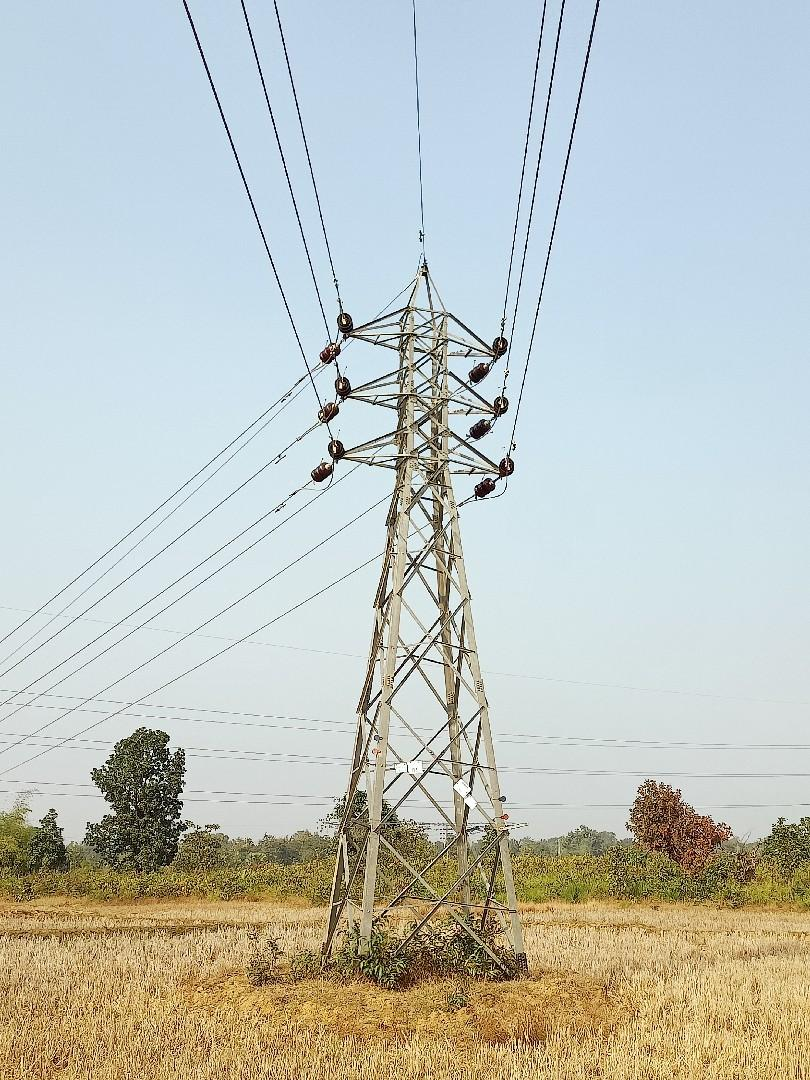GSM Antenna: (314, 256, 539, 927)
